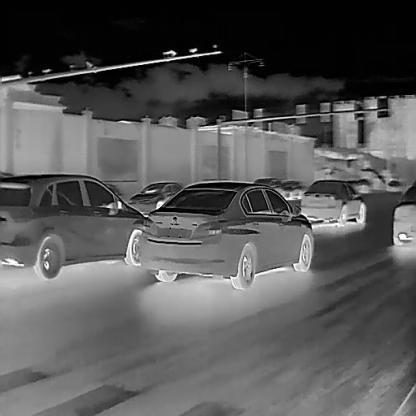car: (137, 180, 314, 289), (0, 173, 145, 280), (300, 178, 366, 227), (127, 180, 183, 212), (392, 180, 416, 247)
